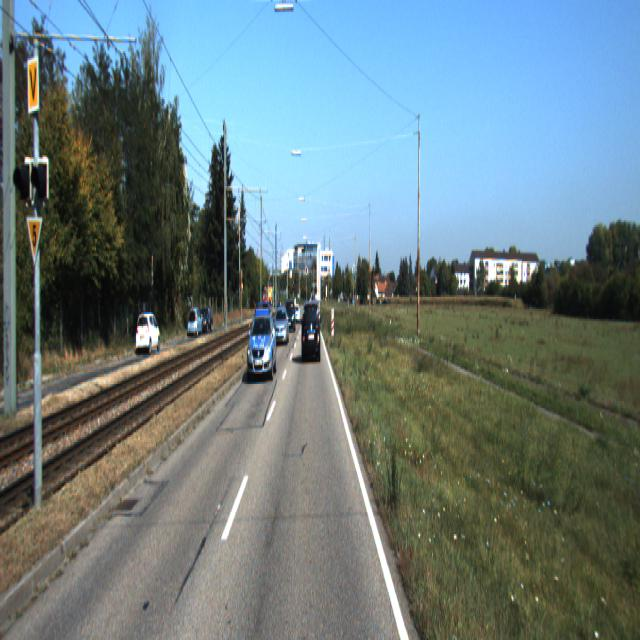Car: (247, 298, 278, 381), (302, 301, 322, 364), (135, 311, 161, 355), (274, 306, 289, 346), (188, 307, 204, 340), (198, 304, 214, 334), (285, 298, 296, 332)
